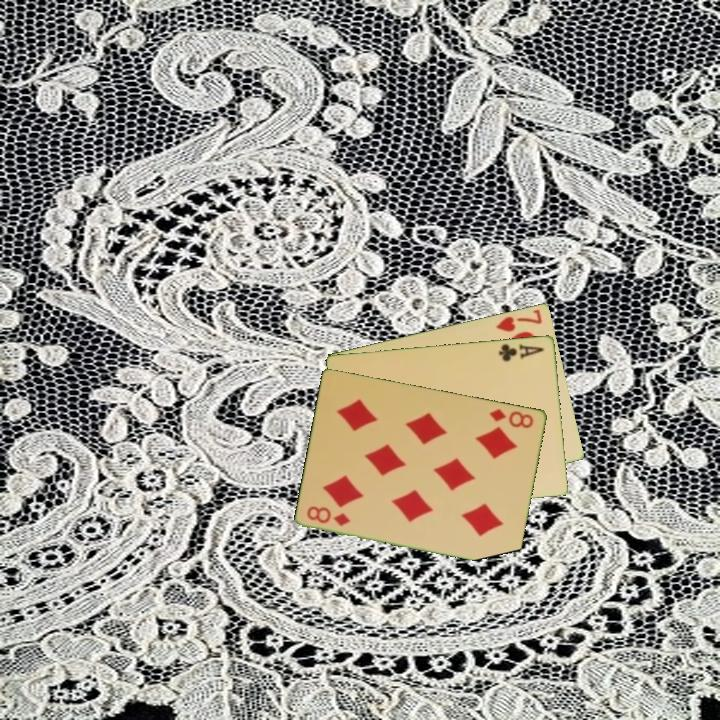7h: (493, 305, 545, 334)
8d: (486, 405, 537, 431), (304, 502, 354, 528)
Ac: (496, 340, 547, 364)
